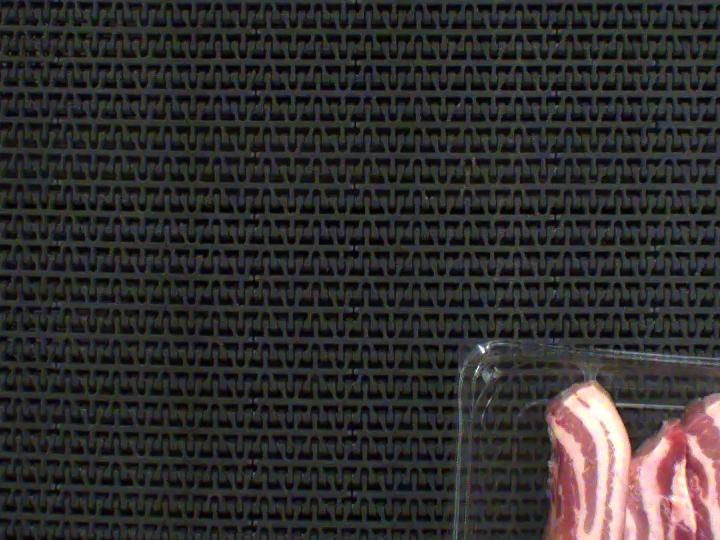packaging-error: (571, 361, 604, 388)
